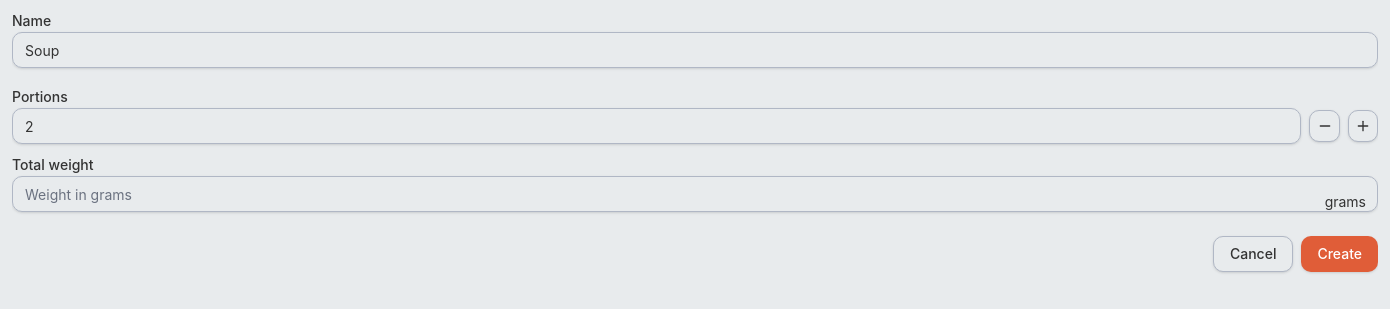
Test: RecipeForm › shows a validation error when weight is below 1
The image size is (1390, 309).
Click the button "Create": [1340, 254] box [1301,236,1378,272]
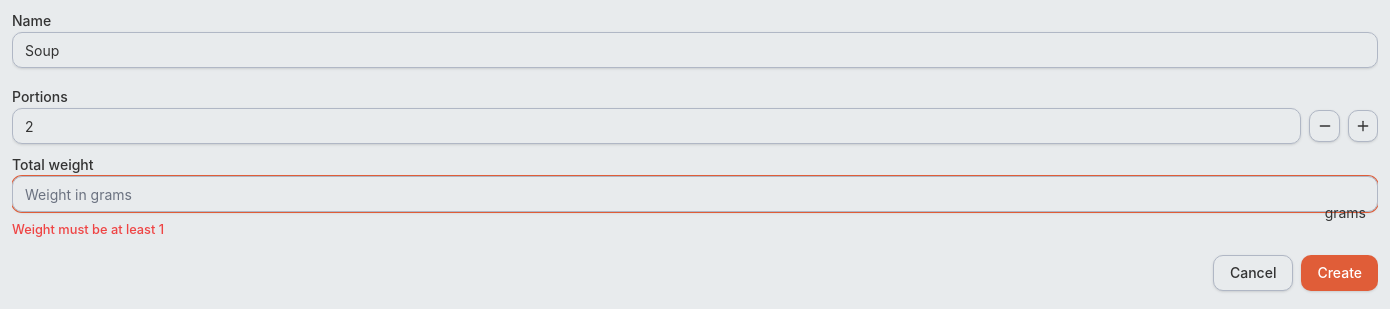
Now the text "Weight must be at least 1" is shown, box [12,222,164,237]
